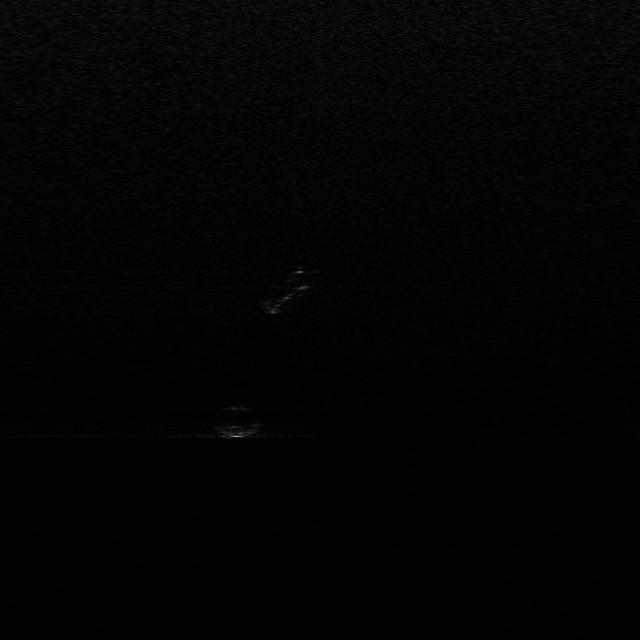ball: (210, 402, 264, 438)
tyre: (258, 272, 310, 313)
